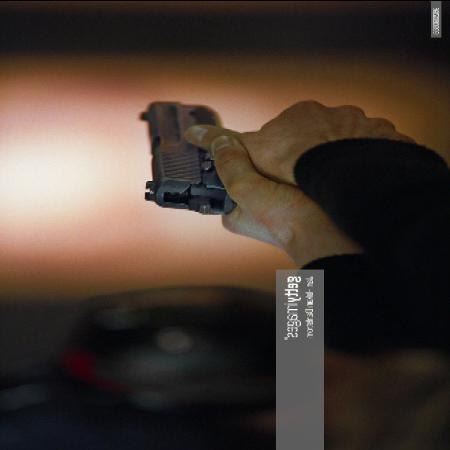Pistol: (137, 96, 233, 216)
